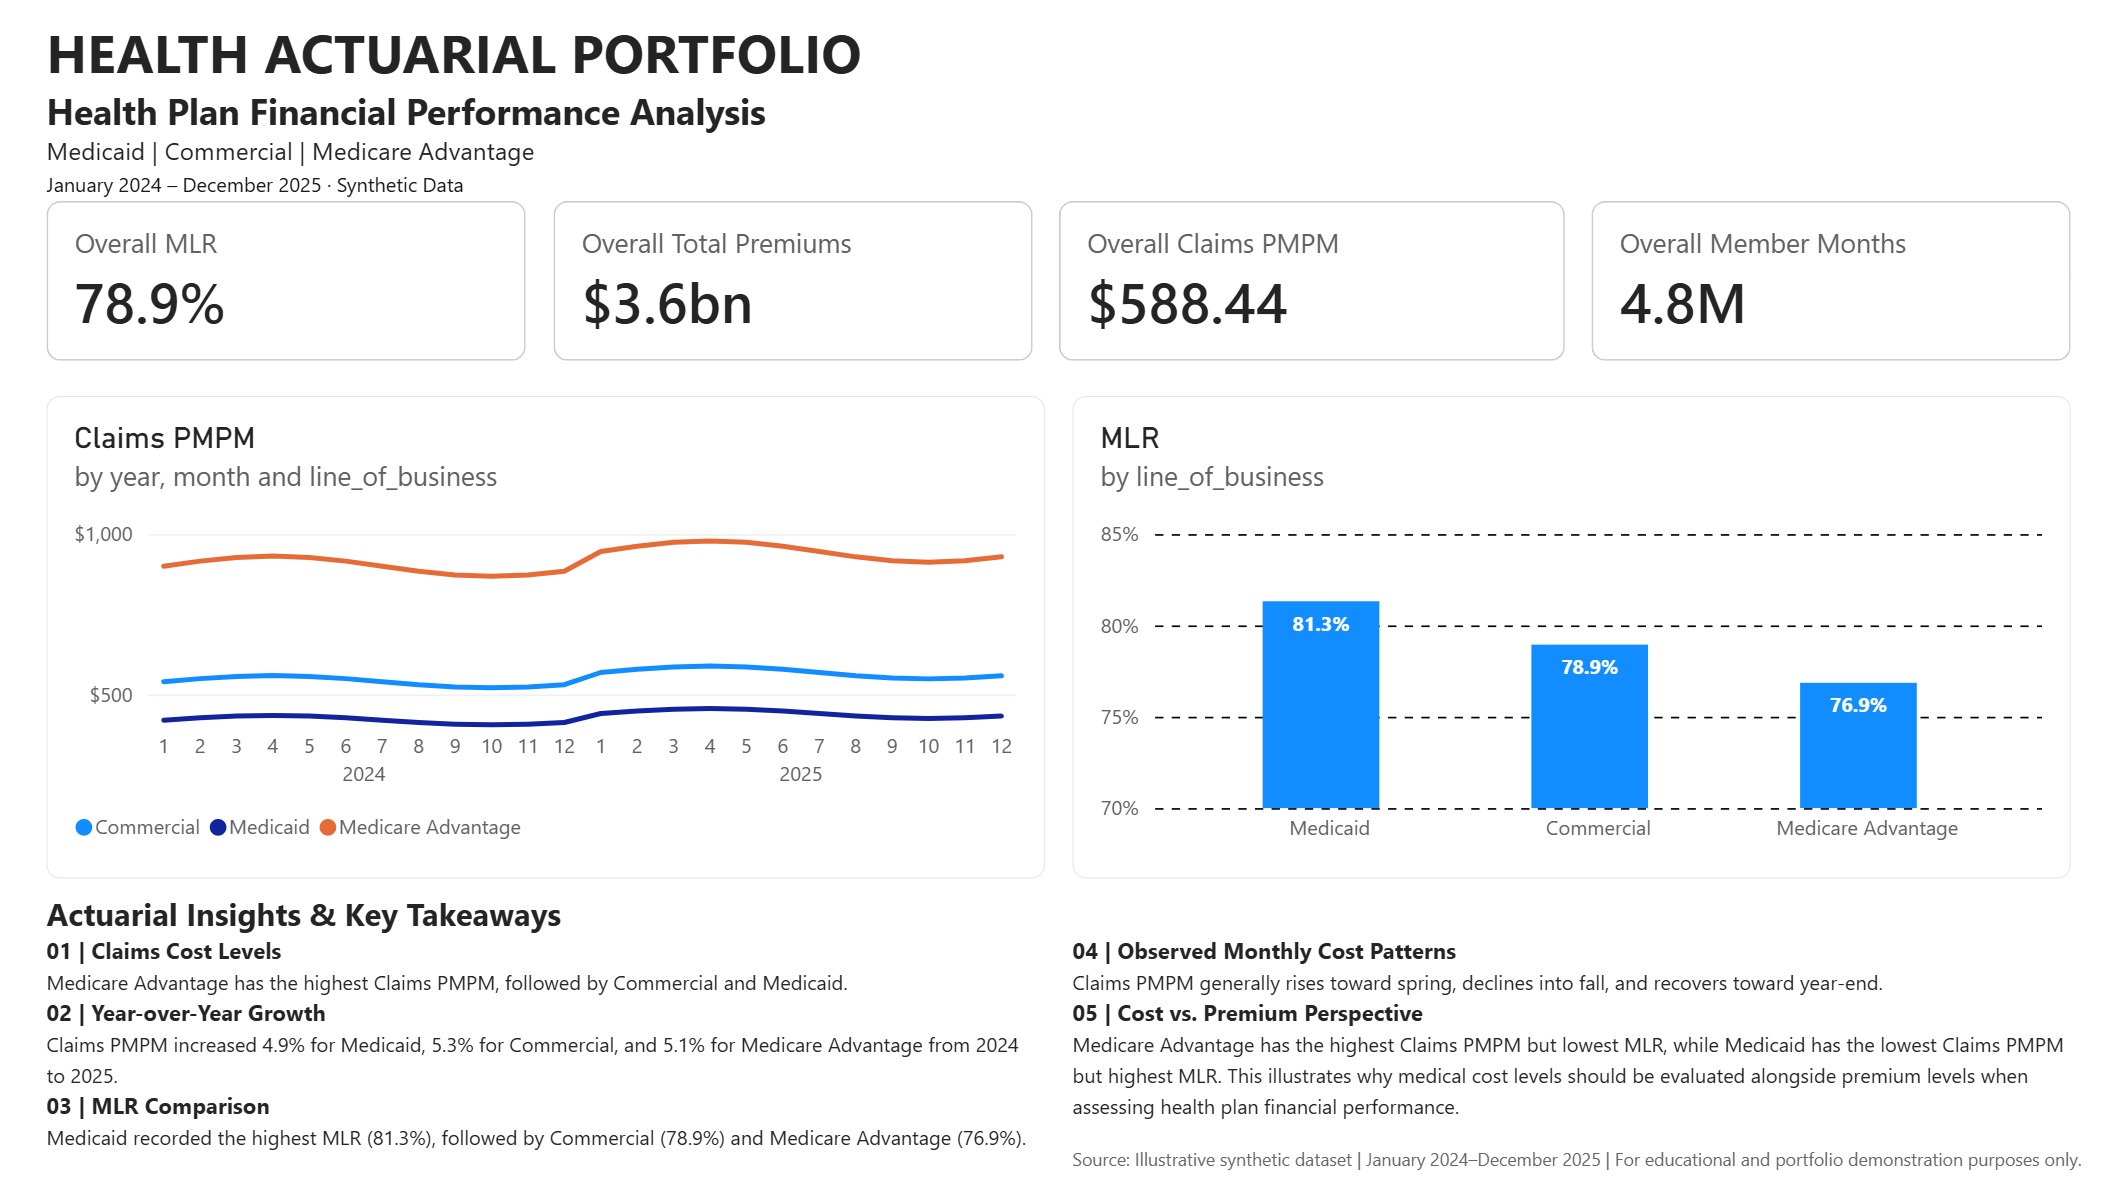

The page's visual inventory and layout, read from the dashboard file:
{"tool":"powerbi","page":{"name":"Executive Summary","canvas":[1280,720],"ordinal":0},"visuals":[{"type":"cardVisual","title":"Overall MLR","fields":{"Data":["synthetic_health_claims.MLR"]},"box":[32,128,288,96],"z":0},{"type":"cardVisual","fields":{"Data":["synthetic_health_claims.Premium"]},"box":[336,128,288,96],"z":1000},{"type":"cardVisual","fields":{"Data":["synthetic_health_claims.Claims PMPM"]},"box":[640,128,304,96],"z":2000},{"type":"cardVisual","fields":{"Data":["synthetic_health_claims.Member Months"]},"box":[960,128,288,96],"z":3000},{"type":"lineChart","fields":{"Category":["synthetic_health_claims.year","synthetic_health_claims.month"],"Series":["synthetic_health_claims.line_of_business"],"Y":["synthetic_health_claims.Claims PMPM"]},"box":[32,245,600,290],"z":4000},{"type":"clusteredColumnChart","fields":{"Category":["synthetic_health_claims.line_of_business"],"Y":["synthetic_health_claims.MLR"]},"box":[648,245,600,290],"z":5000},{"type":"textbox","box":[820.4,80,1067.2,69.5],"z":6000},{"type":"textbox","box":[32,16,1216,136],"z":7000},{"type":"textbox","box":[32,550,1216,32],"z":8000},{"type":"textbox","box":[32,544,1216,48],"z":9000},{"type":"textbox","box":[32,568,592,152],"z":10000},{"type":"textbox","box":[648,568,600,112],"z":11000},{"type":"textbox","box":[648,692,624,24],"z":12000}]}

Visuals, with their boxes in screenshot pixels (x1, y1, x2, y2), scaled from the page's 1280x720 canvas onto the 2116x1180 screenshot:
"Overall MLR" cardVisual: [53,210,529,367]
cardVisual - synthetic_health_claims.Premium: [555,210,1032,367]
cardVisual - synthetic_health_claims.Claims PMPM: [1058,210,1561,367]
cardVisual - synthetic_health_claims.Member Months: [1587,210,2063,367]
lineChart - synthetic_health_claims.year x synthetic_health_claims.month: [53,402,1045,877]
clusteredColumnChart - synthetic_health_claims.line_of_business x synthetic_health_claims.MLR: [1071,402,2063,877]
textbox: [1356,131,2115,245]
textbox: [53,26,2063,249]
textbox: [53,901,2063,954]
textbox: [53,892,2063,970]
textbox: [53,931,1032,1179]
textbox: [1071,931,2063,1114]
textbox: [1071,1134,2103,1173]
